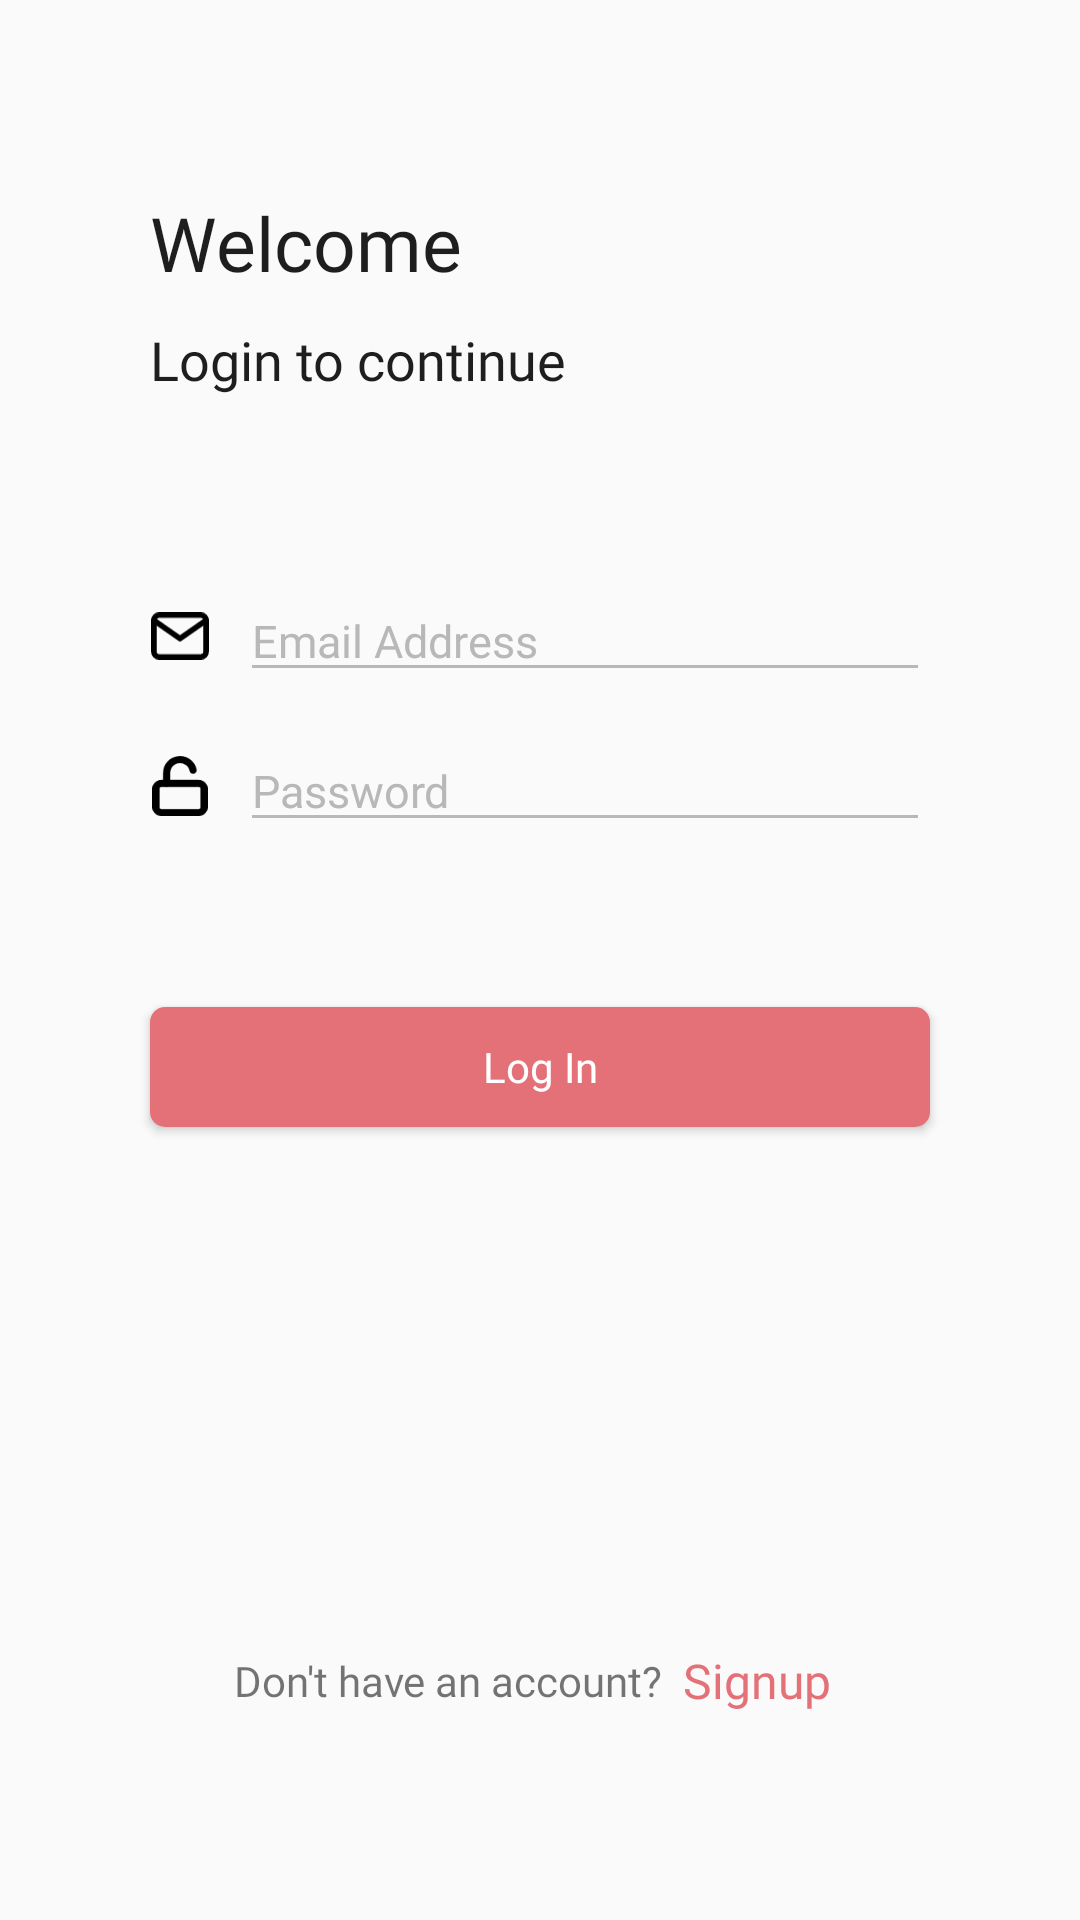

Point at icon controls on the screen. Image size 1080 × 1920, points as point (x, y).
feather mail: point (180, 636)
feather unlock: point (180, 786)
